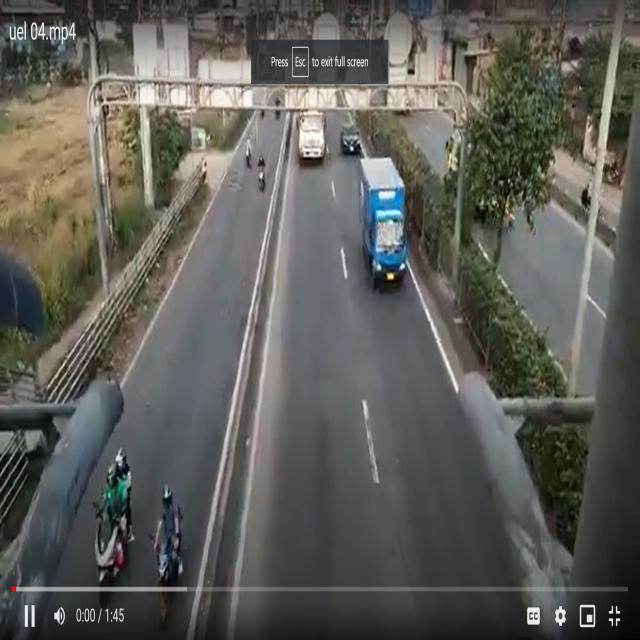motorbike: (89, 501, 130, 589), (156, 528, 179, 604), (256, 160, 267, 197)
truck: (359, 147, 407, 289)
